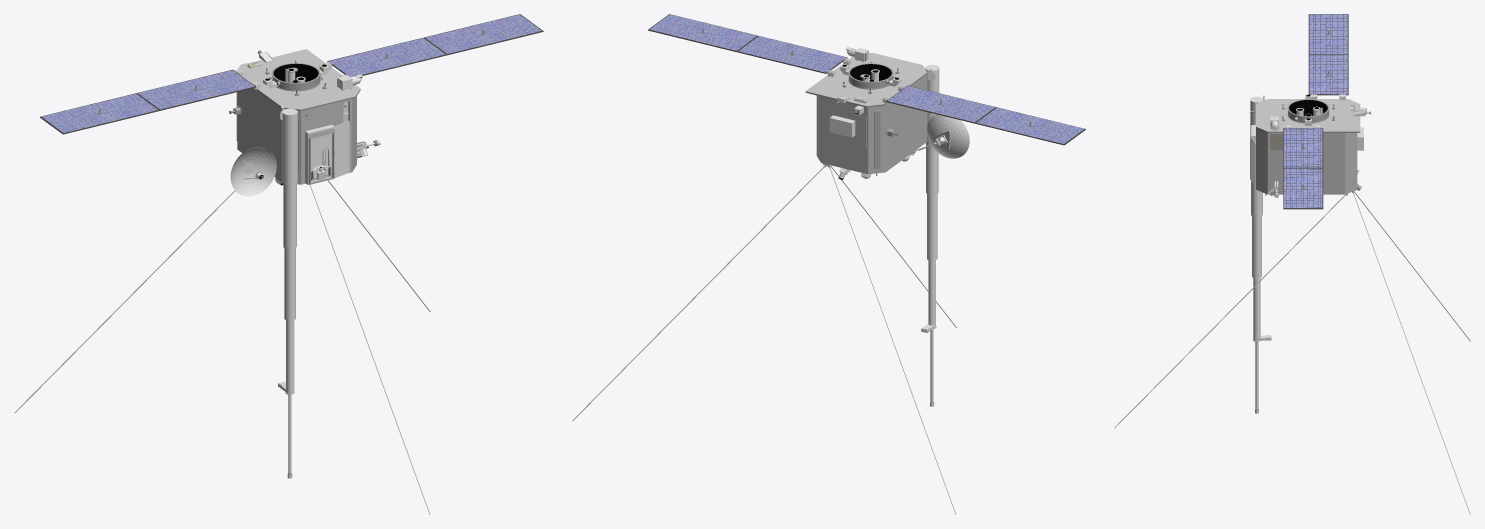
The model's file is stereo.glb.
3 renders of one model, left to right at view 1: azimuth 30°, elevation 25°; view 2: azimuth 150°, elevation 25°; view 3: azimuth 270°, elevation 25°, orthographic. The views are drawn at different scales.
Parts seen in each view (by area): view 1: Layer_0; view 2: Layer_0; view 3: Layer_0.
Boxes of the visible parts, x1,y1,x2,y2 form: Layer_0: [14, 14, 543, 514]; Layer_0: [572, 14, 1085, 514]; Layer_0: [1114, 14, 1470, 514].
Size of the model in its own units: 3142 by 2425 by 2434.
